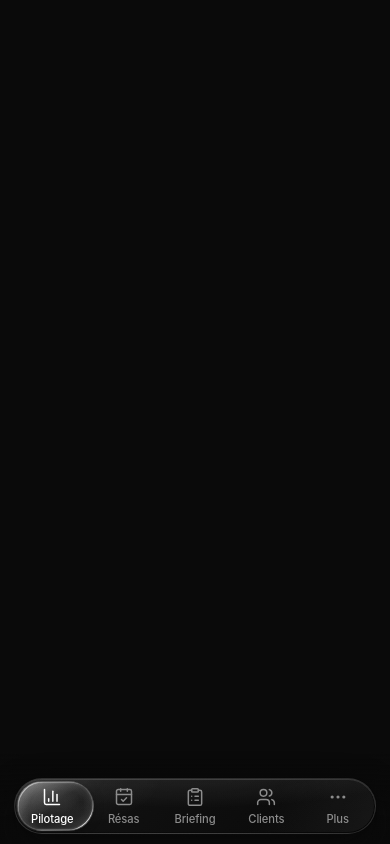
Test case: MobileBottomNav › opens and closes the more menu dialog
Click the button "Plus".
click(338, 806)  # box [302,779,373,833]
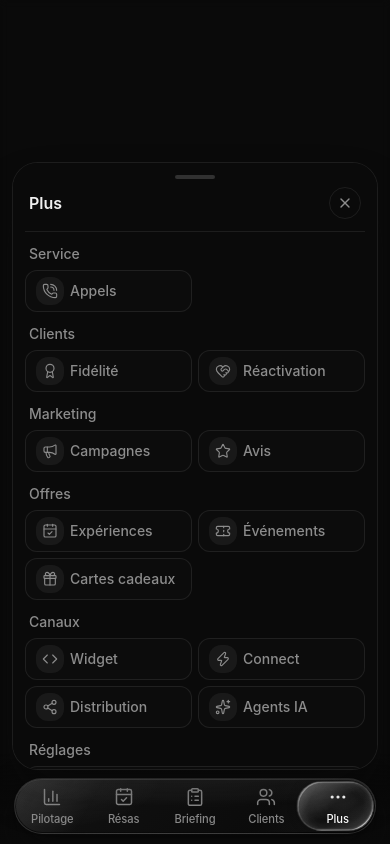
Check: the button "Plus" is expanded, box [302,779,373,833]
Check: the dialog "Plus" is shown
Check: the text "Campagnes" is shown, box [70,442,150,460]
Note: Close menu
Click the 1st button named "Fermer".
click(195, 51)  # box [0,0,389,843]
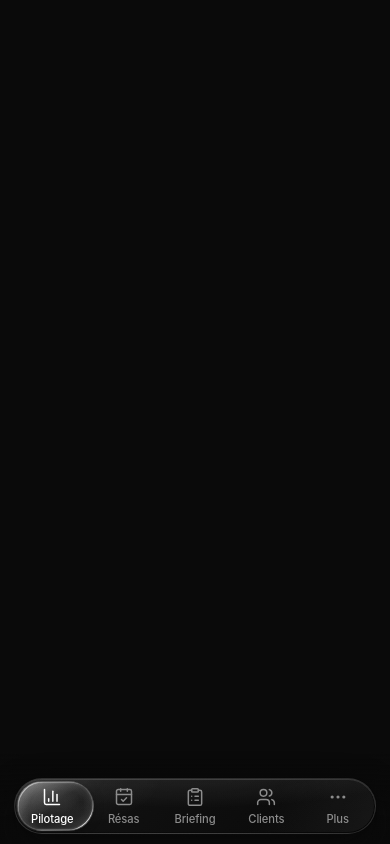
Check: the dialog is gone
